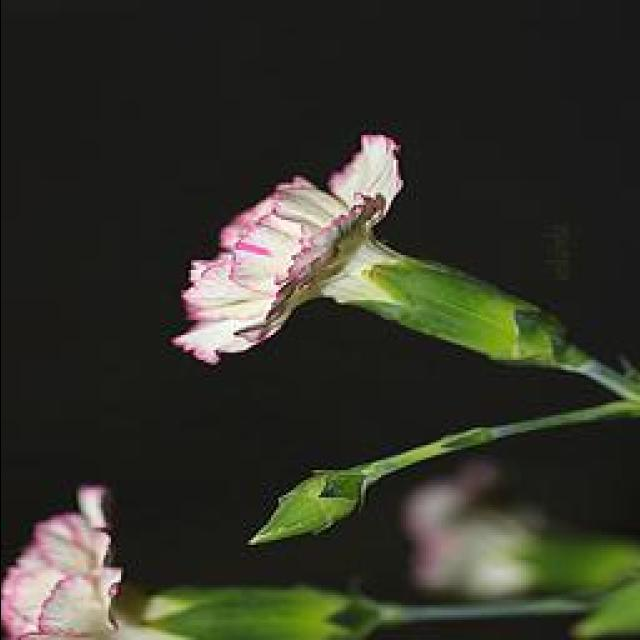carnation: (148, 123, 476, 385)
